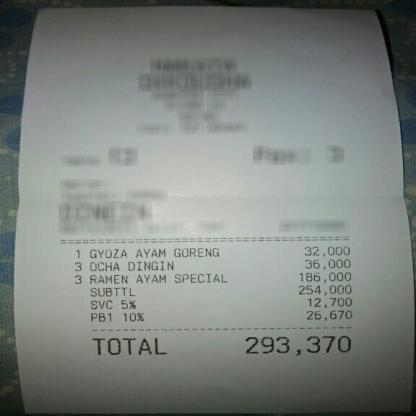receipts: (38, 10, 401, 403)
